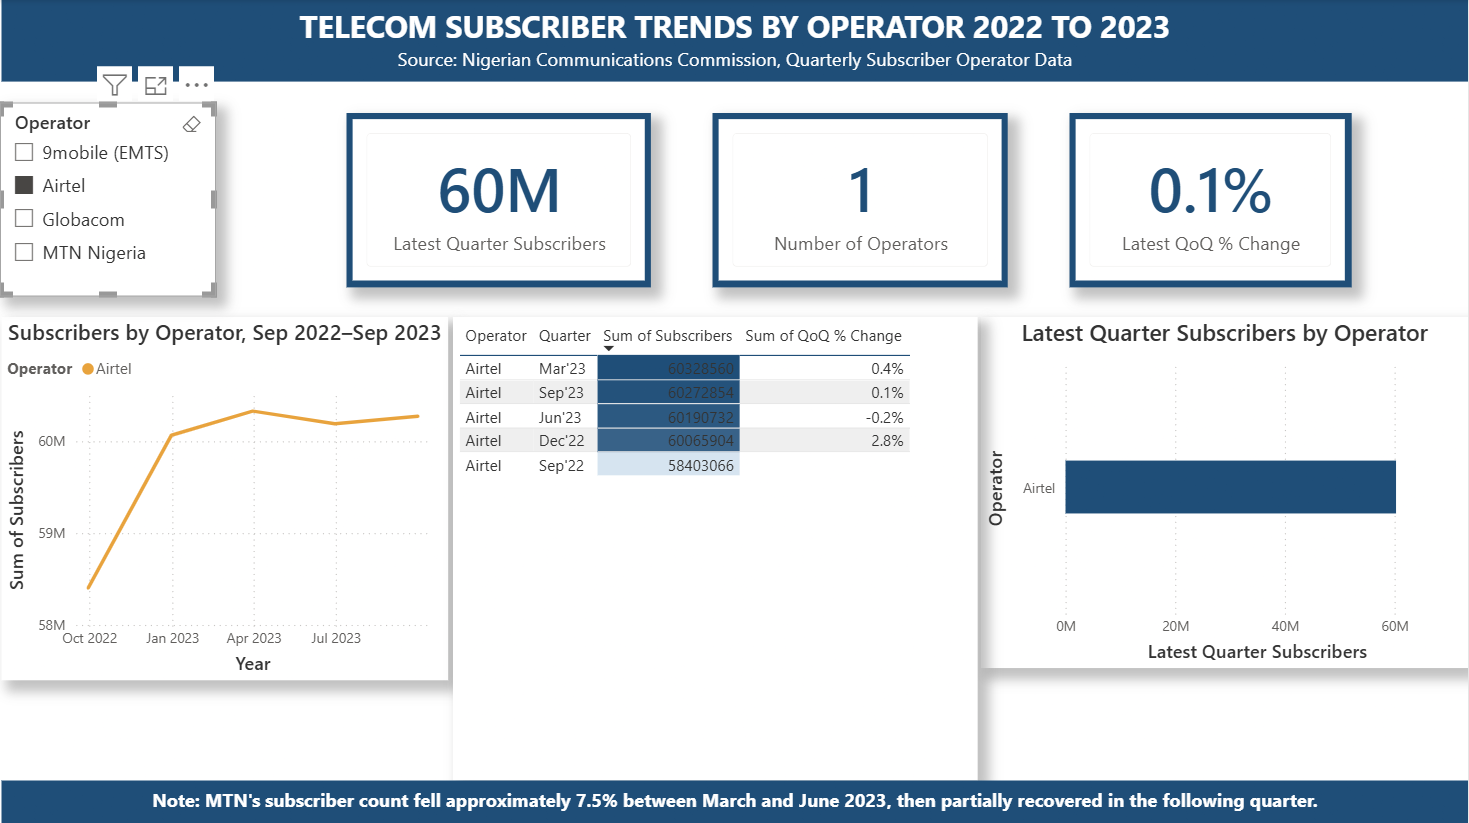

The dashboard page shown, as its layout file describes it:
{"tool":"powerbi","page":{"name":"Page 1","canvas":[1280,720],"ordinal":0},"visuals":[{"type":"slicer","fields":{"Values":["MasterSubscriberData.Operator"]},"box":[0,90.2,188.3,168.7],"z":0},{"type":"lineChart","title":"Subscribers by Operator, Sep 2022–Sep 2023","fields":{"Series":["MasterSubscriberData.Operator"],"Category":["MasterSubscriberData.Quarter End Date.Variation.Date Hierarchy.Year","MasterSubscriberData.Quarter End Date.Variation.Date Hierarchy.Quarter","MasterSubscriberData.Quarter End Date.Variation.Date Hierarchy.Month","MasterSubscriberData.Quarter End Date.Variation.Date Hierarchy.Day"],"Y":["Sum(MasterSubscriberData.Subscribers)"]},"box":[1.3,277.2,389.6,316.4],"z":1000},{"type":"cardVisual","fields":{"Data":["MasterSubscriberData.Latest Quarter Subscribers"]},"box":[302,99.4,265.4,151.7],"z":2000},{"type":"cardVisual","fields":{"Data":["MasterSubscriberData.Number of Operators"]},"box":[621.1,99.4,257.6,151.7],"z":3000},{"type":"cardVisual","fields":{"Data":["MasterSubscriberData.Latest QoQ % Change"]},"box":[932.3,99.4,245.8,151.7],"z":4000},{"type":"clusteredBarChart","fields":{"Category":["MasterSubscriberData.Operator"],"Y":["MasterSubscriberData.Latest Quarter Subscribers"]},"box":[855.1,277.2,424.9,306],"z":5000},{"type":"tableEx","fields":{"Values":["MasterSubscriberData.Operator","MasterSubscriberData.Quarter","Sum(MasterSubscriberData.Subscribers)","Sum(MasterSubscriberData.QoQ % Change)"]},"box":[394.2,277.2,457.6,404],"z":6000},{"type":"textbox","box":[1.3,0,1278.8,71.9],"z":7000},{"type":"textbox","box":[1.3,681.2,1278.8,39.2],"z":8000}]}

Visuals, with their boxes in screenshot pixels (x1, y1, x2, y2), scaled from the page's 1280x720 canvas onto the 1469x823 screenshot:
slicer - MasterSubscriberData.Operator: 0,103,216,296
"Subscribers by Operator, Sep 2022–Sep 2023" lineChart: 1,317,449,679
cardVisual - MasterSubscriberData.Latest Quarter Subscribers: 347,114,651,287
cardVisual - MasterSubscriberData.Number of Operators: 713,114,1008,287
cardVisual - MasterSubscriberData.Latest QoQ % Change: 1070,114,1352,287
clusteredBarChart - MasterSubscriberData.Operator x MasterSubscriberData.Latest Quarter Subscribers: 981,317,1468,667
tableEx - MasterSubscriberData.Operator x MasterSubscriberData.Quarter: 452,317,978,779
textbox: 1,0,1468,82
textbox: 1,779,1468,822
